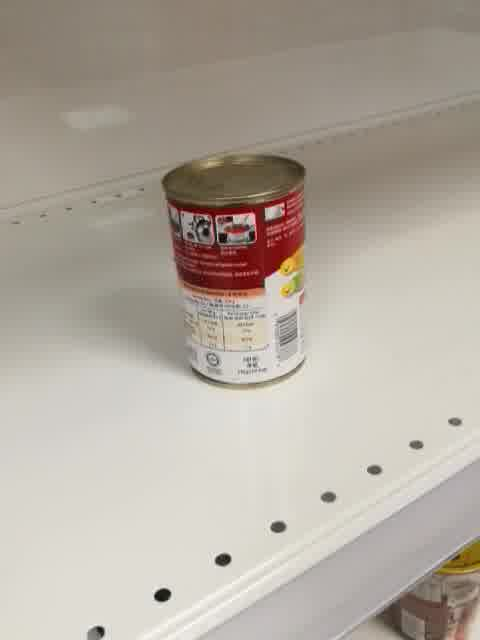tomatosoup: (158, 148, 311, 390)
